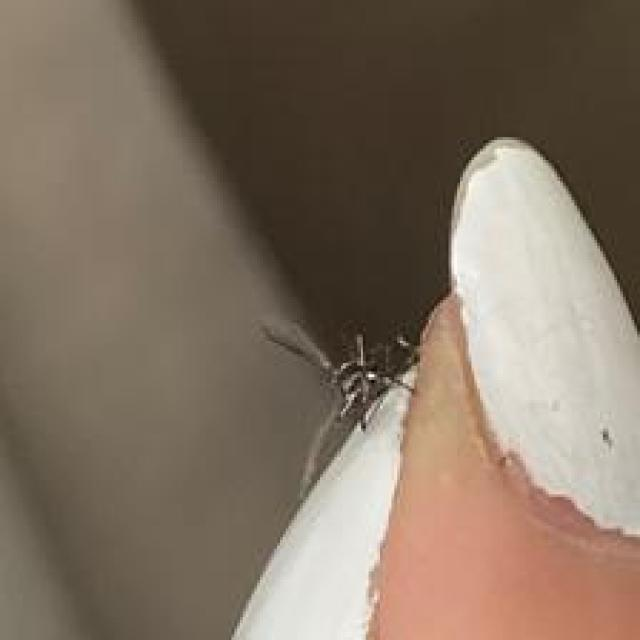Aedes albopictus: (258, 316, 422, 501)
